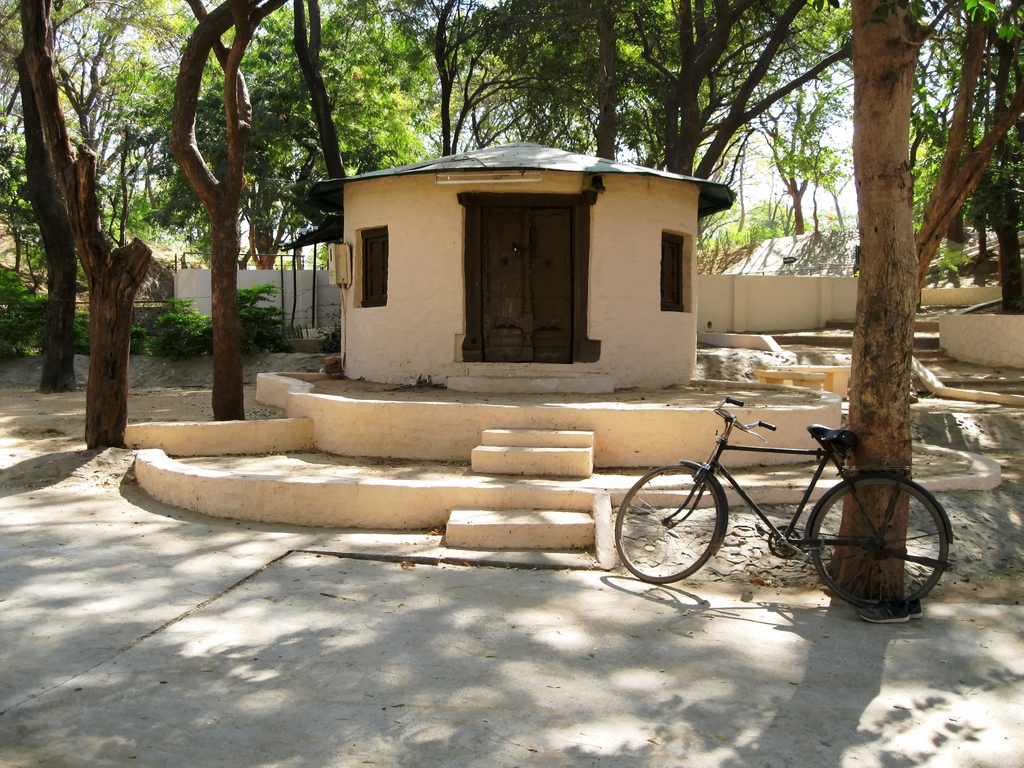bicycle: (614, 394, 950, 600)
